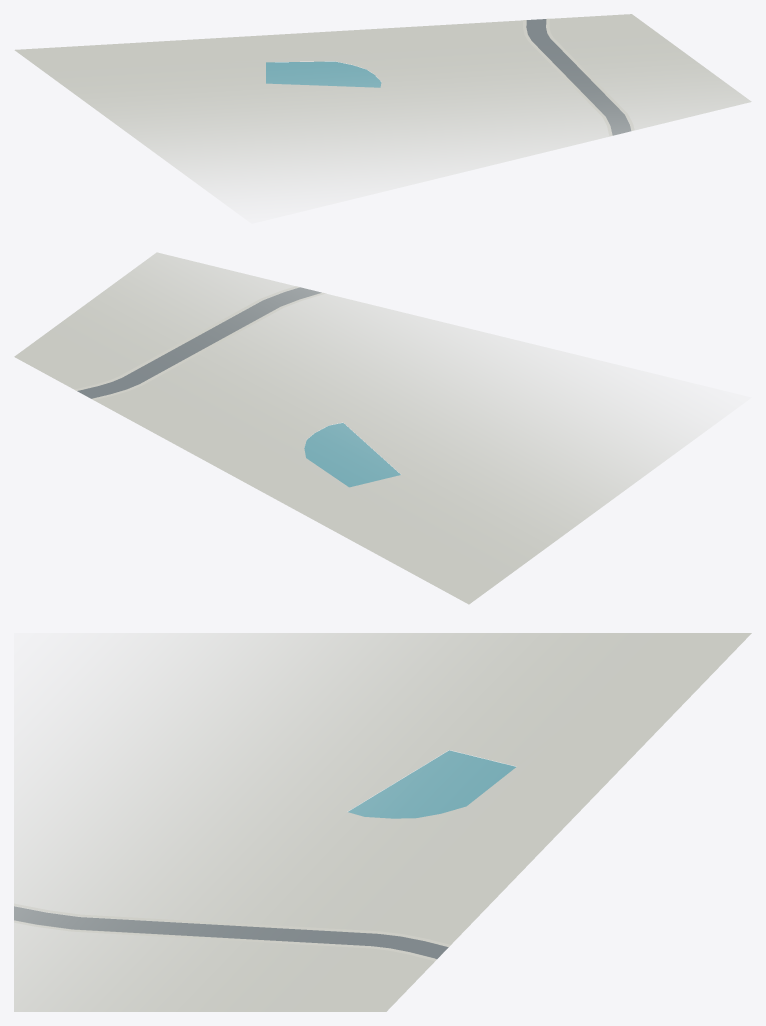
The picture shows the model from 3 angles, top to bottom: view 1: azimuth 30°, elevation 25°; view 2: azimuth 150°, elevation 25°; view 3: azimuth 270°, elevation 25°; orthographic projection. The views are drawn at different scales.
Parts seen in each view (by area): view 1: city; view 2: city; view 3: city.
Part boxes in pixels (left/top/right/bottom): city: left=14, top=14, right=751, bottom=209; city: left=14, top=252, right=727, bottom=604; city: left=14, top=633, right=751, bottom=1011.
Size of the model in its own units: 500 by 0.4 by 412.
